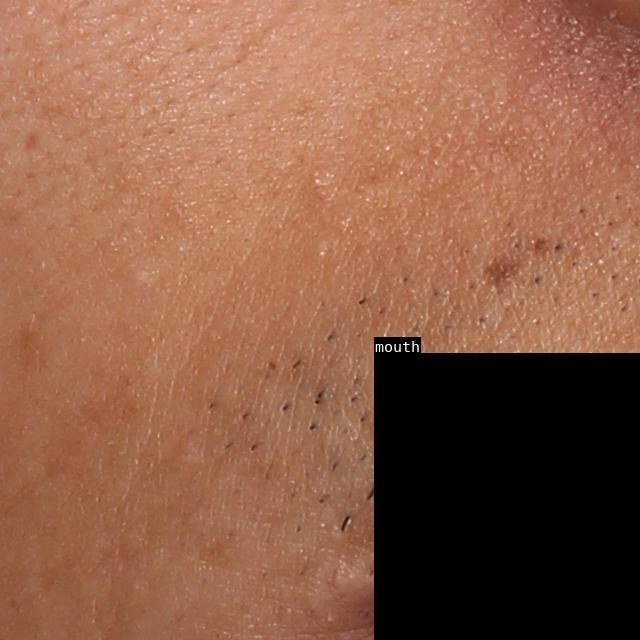atrophic_scar: (18, 127, 44, 158)
comedo: (127, 260, 158, 294)
nevus: (482, 250, 524, 290)
